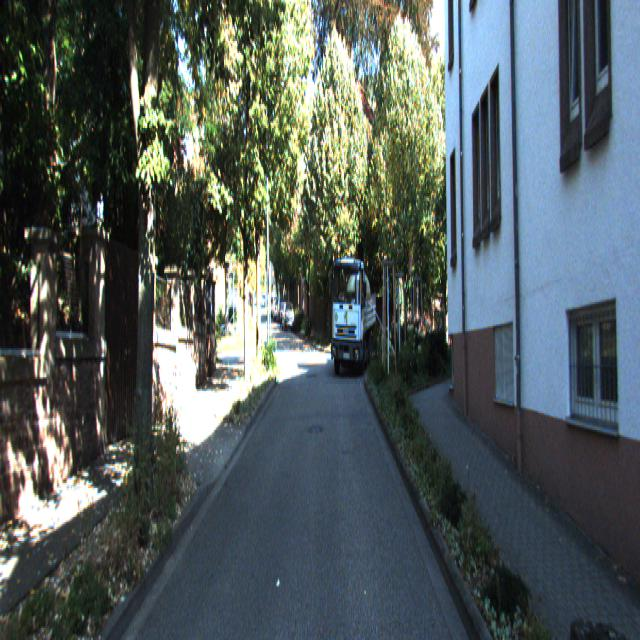Car: (330, 252, 378, 380), (283, 300, 295, 333)
